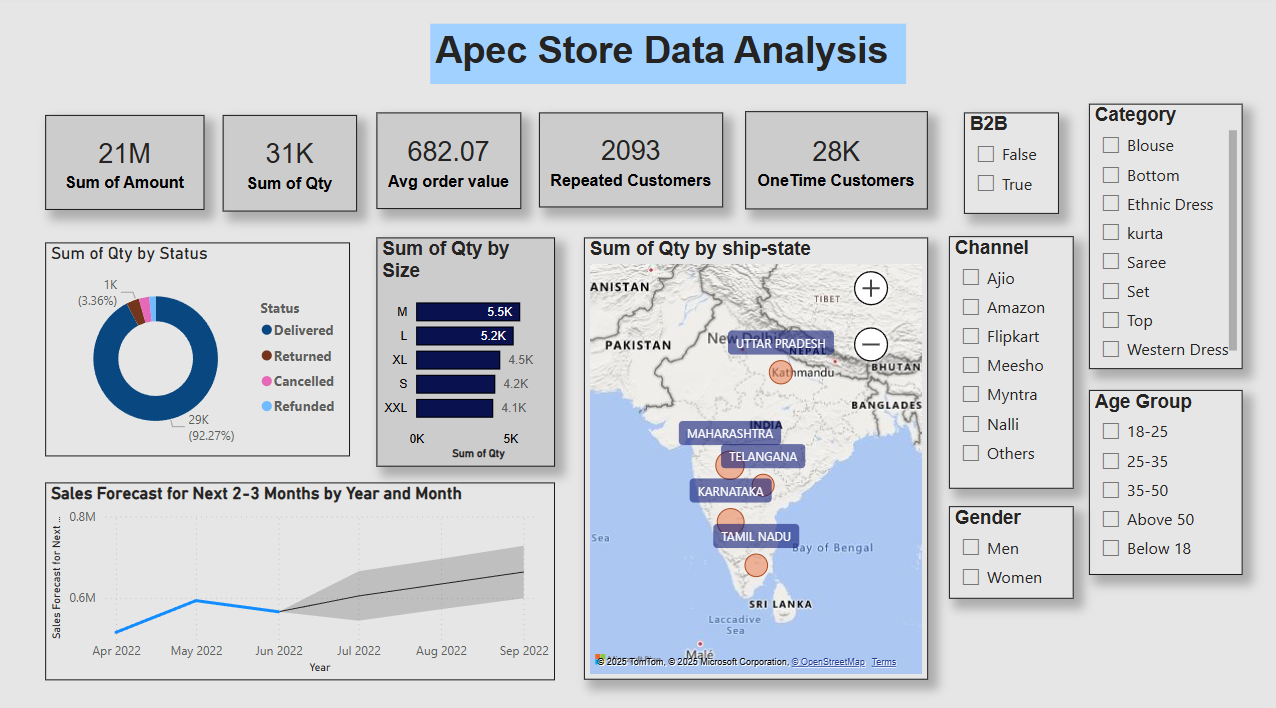

Layout of this report page (visuals, bound fields, positions):
{"tool":"powerbi","page":{"name":"Order, Shipping and Forecasting","canvas":[1280,720],"ordinal":2},"visuals":[{"type":"textbox","box":[429.2,28.6,473.9,59.7],"z":0},{"type":"card","fields":{"Values":["Sum(Apec Stores.Qty)"]},"box":[222.5,119.2,133.5,96.1],"z":1000},{"type":"card","fields":{"Values":["Metrics.Avg order value"]},"box":[375.5,117.5,144.2,96.1],"z":2000},{"type":"card","fields":{"Values":["Metrics.Repeated Customers"]},"box":[537.5,117.5,183.3,94.3],"z":3000},{"type":"card","fields":{"Values":["Metrics.OneTime Customers"]},"box":[742.2,115.7,181.5,97.9],"z":4000},{"type":"card","fields":{"Values":["Sum(Apec Stores.Amount)"]},"box":[46.3,119.2,158.4,94.3],"z":5000},{"type":"slicer","title":"B2B","fields":{"Values":["Apec Stores.B2B"]},"box":[960.3,116.9,94.5,100.8],"z":6000},{"type":"slicer","title":"Channel","fields":{"Values":["Apec Stores.Channel "]},"box":[945.4,240.1,124.4,251.3],"z":7000},{"type":"donutChart","fields":{"Category":["Apec Stores.Status"],"Y":["Sum(Apec Stores.Qty)"]},"box":[46,246.3,303.5,212.7],"z":8000},{"type":"map","fields":{"Category":["Apec Stores.ship-state"],"Size":["Sum(Apec Stores.Qty)"]},"box":[582.2,241.3,342.1,440.4],"z":9000},{"type":"lineChart","fields":{"Y":["Metrics.Sales Forecast for Next 2-3 Months "],"Category":["Apec Stores.Date.Variation.Date Hierarchy.Year","Apec Stores.Date.Variation.Date Hierarchy.Month"]},"box":[46,485.1,507.5,196.5],"z":10000},{"type":"barChart","fields":{"Category":["Apec Stores.Size"],"Y":["Sum(Apec Stores.Qty)"]},"box":[375.7,241.3,177.9,227.6],"z":11000},{"type":"slicer","title":"Category","fields":{"Values":["Apec Stores.Category"]},"box":[1084.7,108.2,153,263.7],"z":12000},{"type":"slicer","title":"Age Group","fields":{"Values":["Apec Stores.Age_Group"]},"box":[1084.7,393.1,153,184.1],"z":13000},{"type":"slicer","title":"Gender","fields":{"Values":["Apec Stores.Gender"]},"box":[945.4,508.8,124.4,92.1],"z":14000}]}

Visuals, with their boxes in screenshot pixels (x1, y1, x2, y2), scaled from the page's 1280x720 canvas onto the 1276x708 screenshot:
textbox: (428,28,900,87)
card - Sum(Apec Stores.Qty): (222,117,355,212)
card - Metrics.Avg order value: (374,116,518,210)
card - Metrics.Repeated Customers: (536,116,719,208)
card - Metrics.OneTime Customers: (740,114,921,210)
card - Sum(Apec Stores.Amount): (46,117,204,210)
"B2B" slicer: (957,115,1052,214)
"Channel" slicer: (942,236,1066,483)
donutChart - Apec Stores.Status x Sum(Apec Stores.Qty): (46,242,348,451)
map - Apec Stores.ship-state x Sum(Apec Stores.Qty): (580,237,921,670)
lineChart - Metrics.Sales Forecast for Next 2-3 Months  x Apec Stores.Date.Variation.Date Hierarchy.Year: (46,477,552,670)
barChart - Apec Stores.Size x Sum(Apec Stores.Qty): (375,237,552,461)
"Category" slicer: (1081,106,1234,366)
"Age Group" slicer: (1081,387,1234,568)
"Gender" slicer: (942,500,1066,591)
